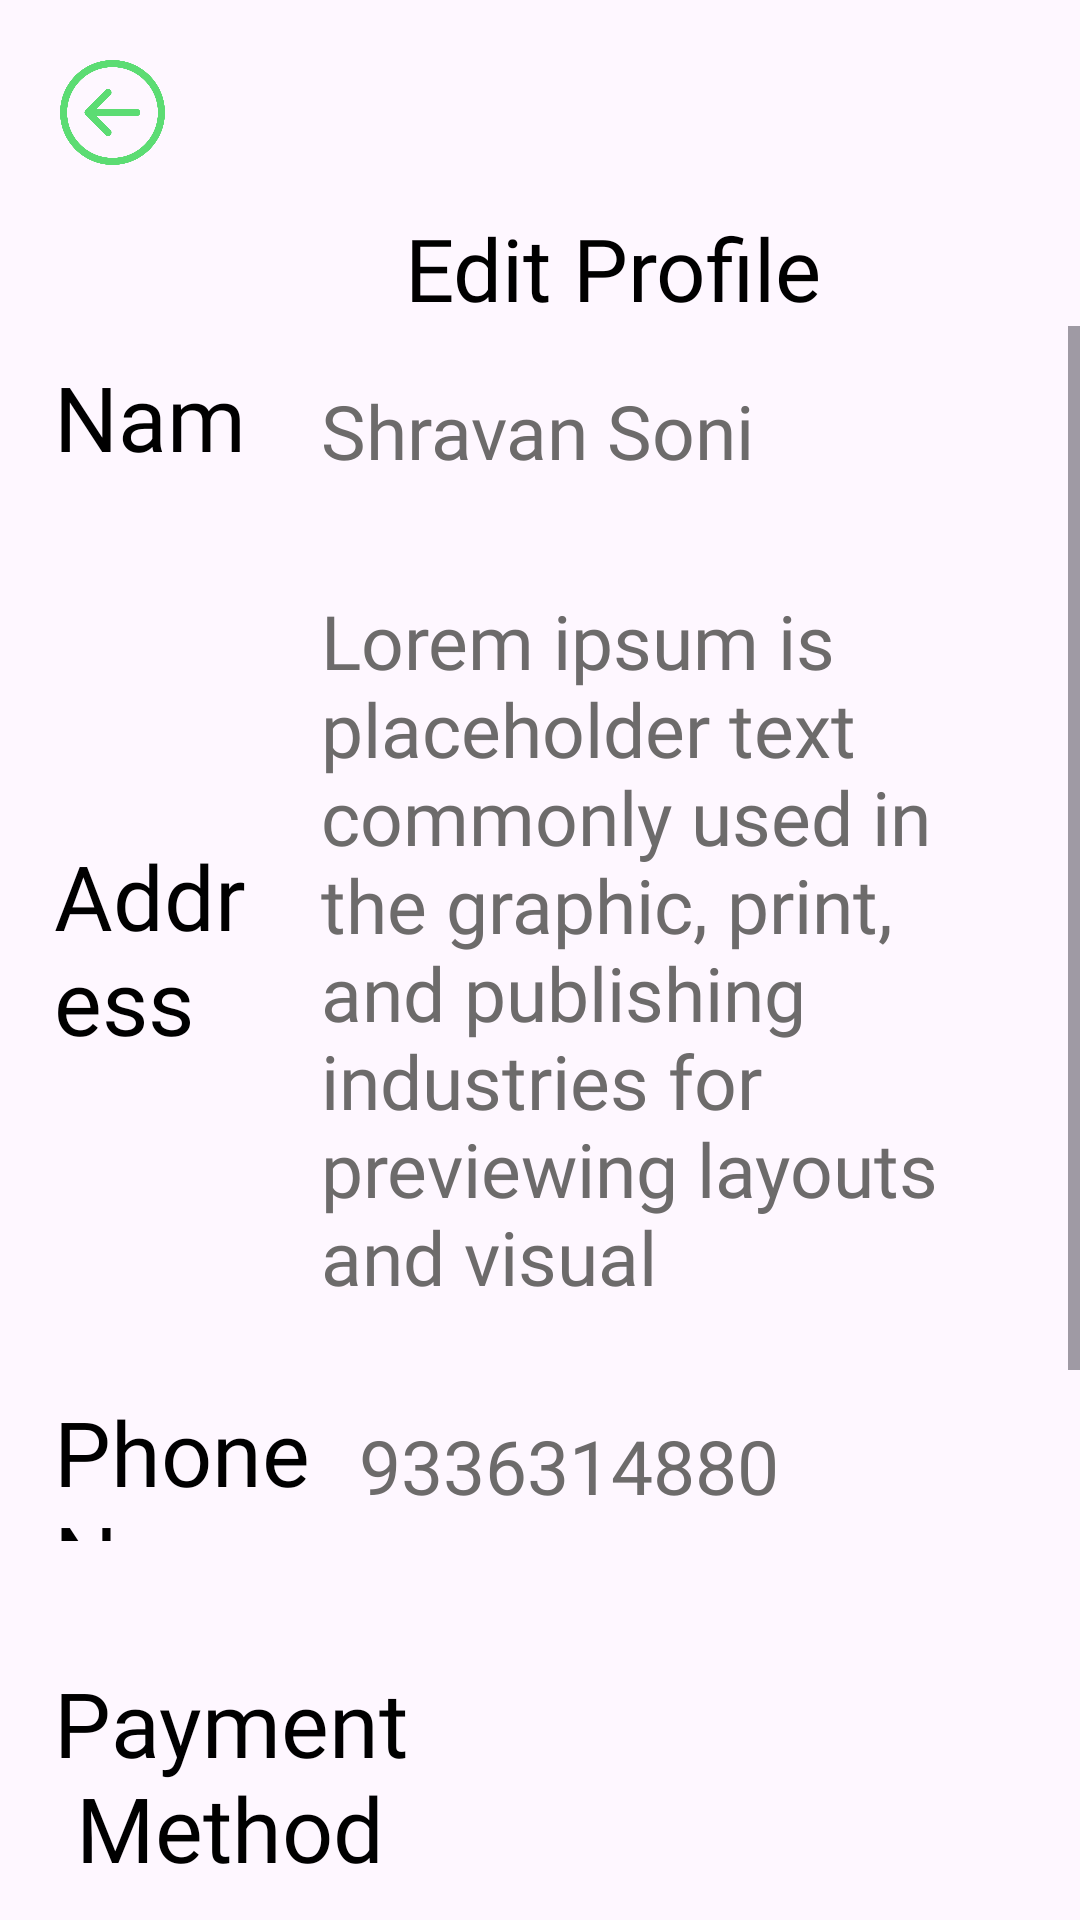

Icons on this 1080px×1920px Android screen, each with its box as (x1, y1, x2, y2):
backbutton: (60, 60, 165, 165)
